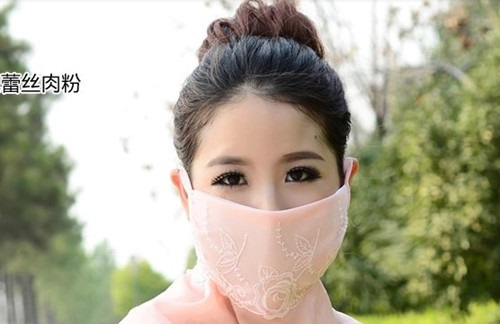face_mask: (180, 83, 346, 289)
